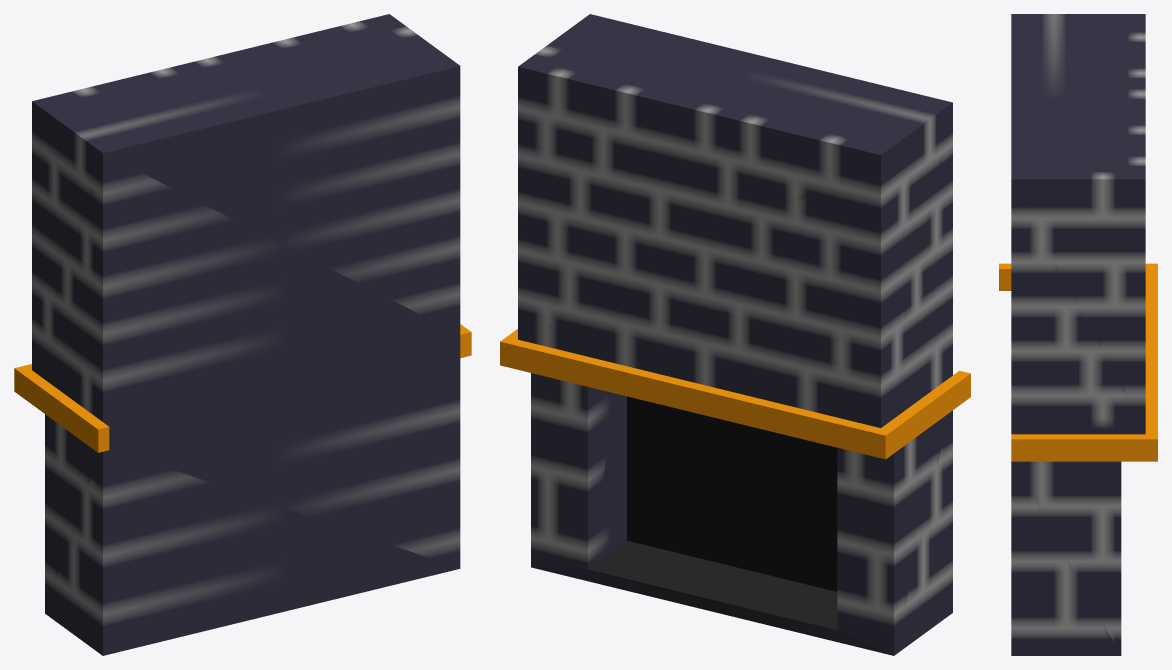
File: shumine.dae
3 renders of one model, left to right at view 1: azimuth 30°, elevation 25°; view 2: azimuth 150°, elevation 25°; view 3: azimuth 270°, elevation 25°, orthographic. The views are drawn at different scales.
Visible parts, largest first — view 1: shumine.shumine; view 2: shumine.shumine; view 3: shumine.shumine.
Part boxes in pixels (left/top/right/bottom): shumine.shumine: left=14, top=14, right=471, bottom=655; shumine.shumine: left=500, top=14, right=970, bottom=655; shumine.shumine: left=999, top=14, right=1157, bottom=655.
Size of the model in its own units: 3.4 by 1.3 by 4.3.
1 material, 1 textured.
